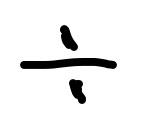div: (15, 25, 116, 102)
